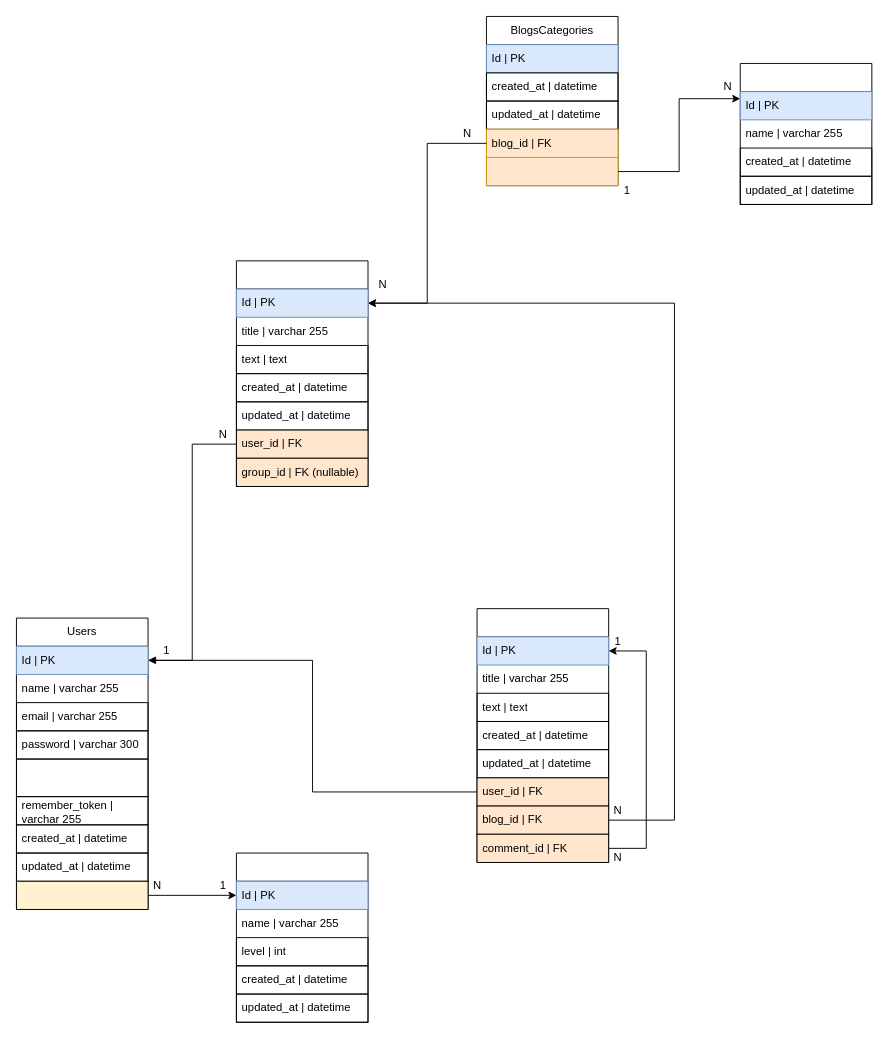
Image size: 888x1039. Some labels were removed from this diagram. Each missing label, with the box of its shape:
Acess: (235, 852, 368, 1022)
acess_id | FK: (16, 880, 148, 909)
Blogs: (235, 260, 368, 486)
categorie_id | FK: (486, 157, 618, 186)
Categories: (739, 63, 872, 204)
Comments: (476, 608, 609, 862)
email_verified_at | datetime: (16, 758, 148, 797)
